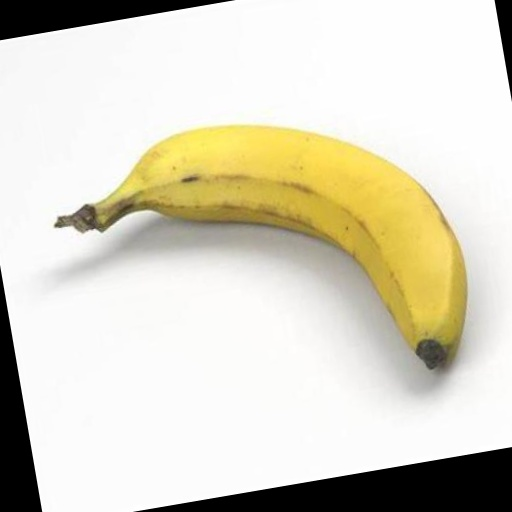fruit: (56, 126, 467, 368)
